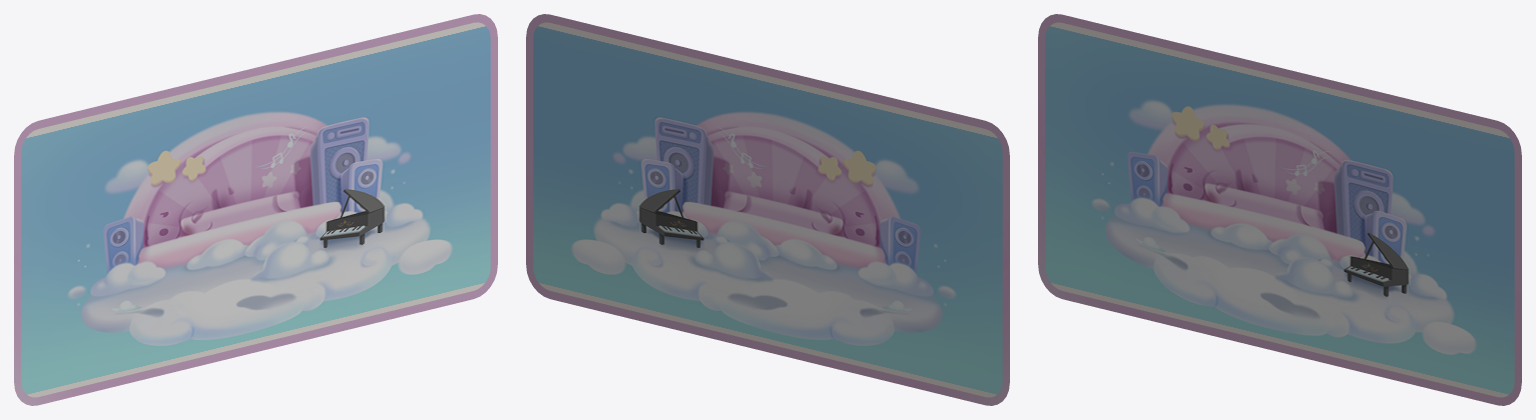
3 renders of one model, left to right at view 1: azimuth 30°, elevation 25°; view 2: azimuth 150°, elevation 25°; view 3: azimuth 330°, elevation 25°, orthographic.
Parts seen in each view (by area): view 1: 书页xx; view 2: 书页xx; view 3: 书页xx.
Boxes of the visible parts, x1,y1,x2,y2 form: 书页xx: (14,14,497,405); 书页xx: (526,14,1009,405); 书页xx: (1038,14,1521,405).
Bounding box in the file's own units: 1158 × 651 × 0.000179.
